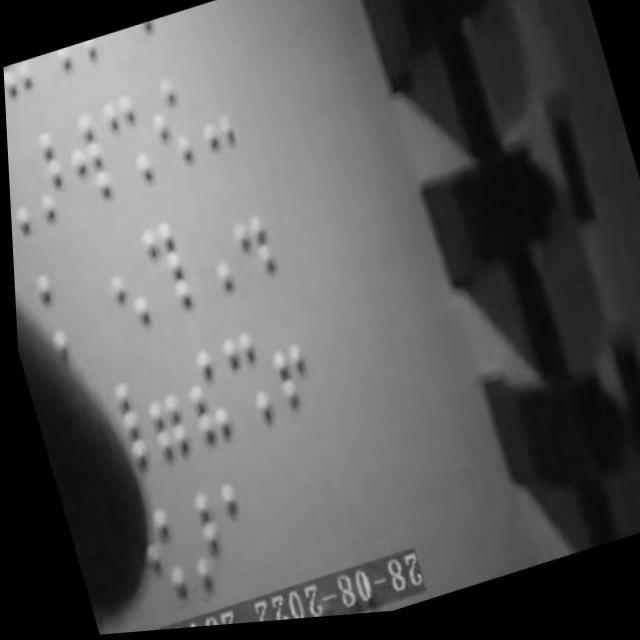braiile: (163, 490, 232, 603), (84, 375, 150, 489), (169, 340, 232, 455), (132, 215, 194, 328), (211, 330, 275, 439), (137, 75, 201, 183), (13, 122, 74, 234), (128, 368, 190, 478), (91, 235, 153, 343), (93, 93, 156, 197), (255, 317, 316, 423), (177, 207, 239, 310), (218, 188, 278, 293), (55, 108, 114, 212), (183, 71, 240, 170), (6, 142, 33, 246)
